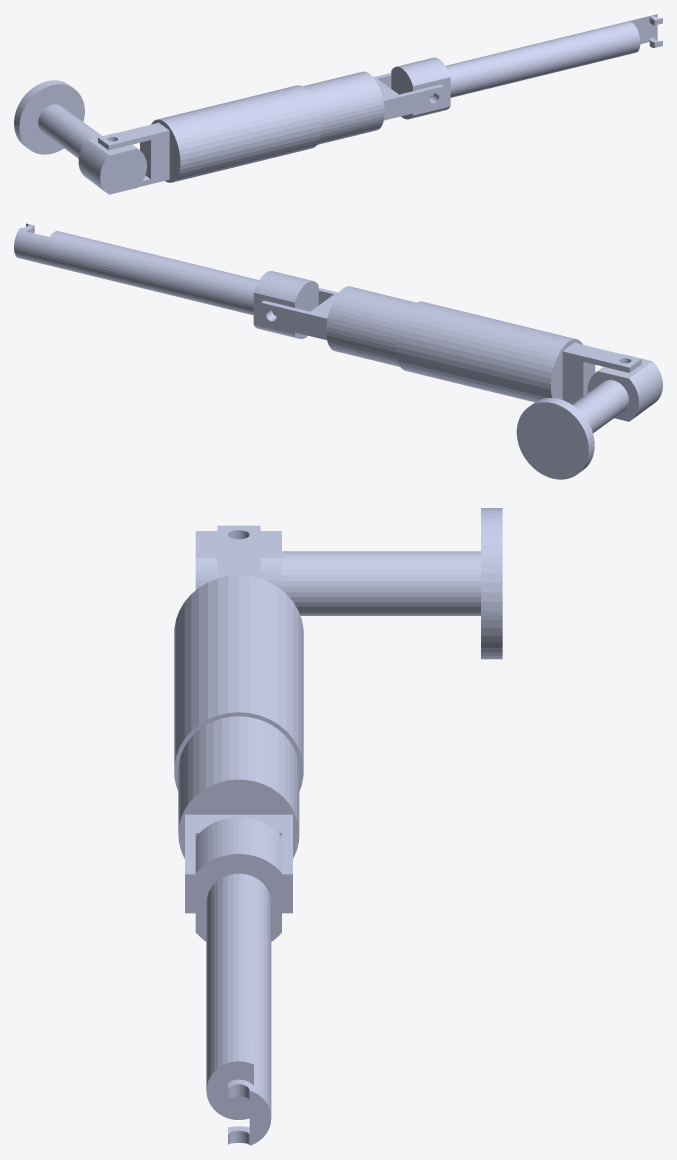
Rendered from x_arm_calib.dae.
3 views of the same model, one above another, from view 1: azimuth 30°, elevation 25°; view 2: azimuth 150°, elevation 25°; view 3: azimuth 270°, elevation 25° (orthographic). The views are drawn at different scales.
Visible parts, largest first — view 1: link2, link5, link3, base_link, link1, link4; view 2: link2, link5, link3, base_link, link4, link1; view 3: link2, link5, base_link, link3, link4, link1.
Boxes of the visible parts, x1,y1,x2,y2 form: link2: [98, 85, 320, 190]; link5: [430, 14, 662, 98]; link3: [303, 71, 443, 144]; base_link: [14, 80, 101, 158]; link1: [78, 133, 146, 194]; link4: [391, 57, 450, 119]; link2: [396, 301, 641, 421]; link5: [14, 223, 276, 315]; link3: [261, 286, 415, 366]; base_link: [516, 380, 628, 479]; link4: [253, 271, 318, 338]; link1: [587, 354, 662, 421]; link2: [174, 525, 303, 791]; link5: [206, 873, 271, 1145]; base_link: [282, 508, 502, 659]; link3: [178, 716, 299, 913]; link4: [195, 817, 281, 941]; link1: [195, 531, 281, 589].
Size of the model in its own units: 0.6197 by 0.1519 by 0.07.
